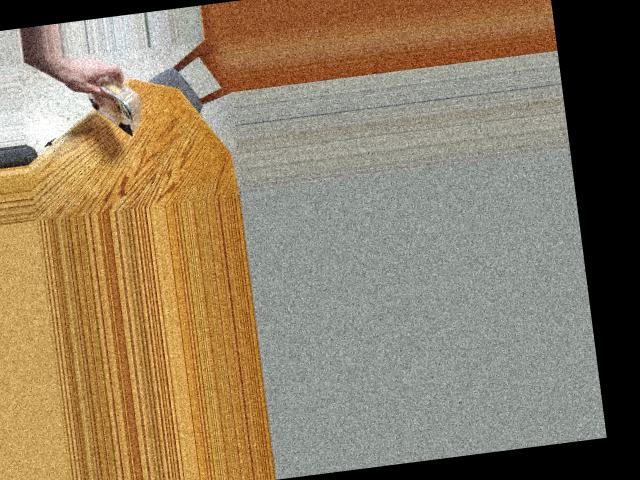cheese: (65, 67, 157, 139)
